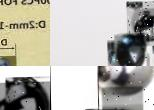ironball: (96, 65, 152, 95), (0, 81, 50, 109), (126, 1, 153, 47), (110, 35, 149, 66), (101, 90, 142, 109)
